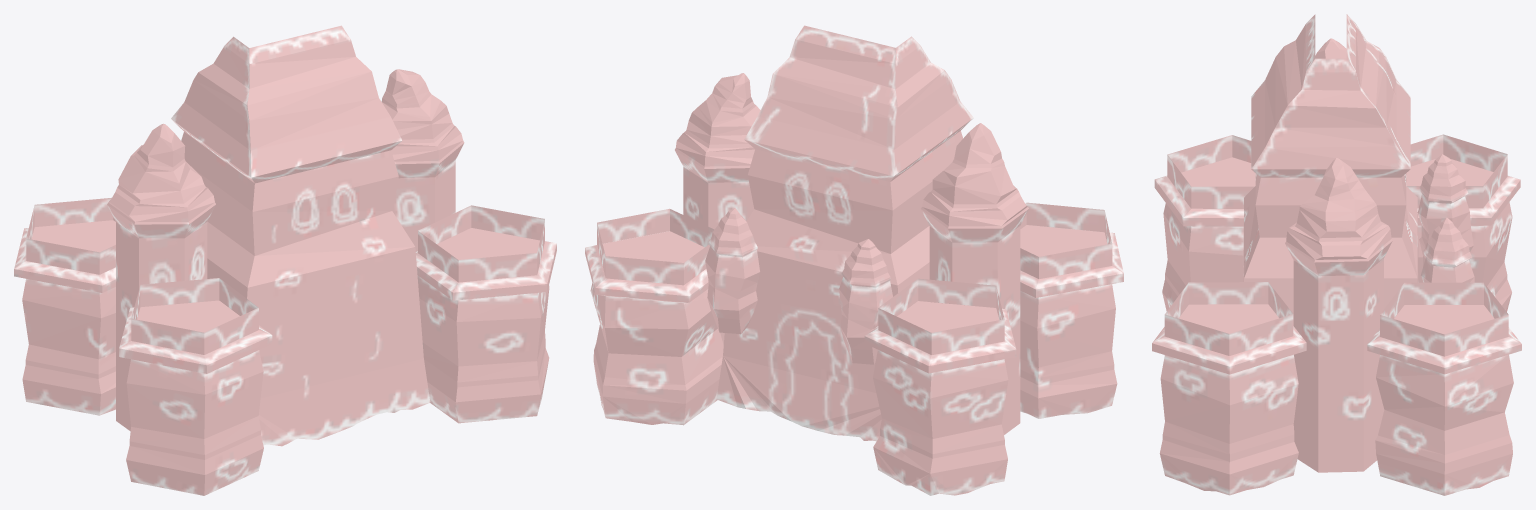
Rendered from PuffyCastle.glb.
The picture shows the model from 3 angles, left to right: view 1: azimuth 30°, elevation 25°; view 2: azimuth 150°, elevation 25°; view 3: azimuth 270°, elevation 25°; orthographic projection.
Visible parts, largest first — view 1: PuffyCastle, PuffyCastle_Alpha; view 2: PuffyCastle, PuffyCastle_Alpha; view 3: PuffyCastle, PuffyCastle_Alpha.
Boxes of the visible parts, x1,y1,x2,y2 form: PuffyCastle: (14,39,556,495); PuffyCastle_Alpha: (26,25,544,354); PuffyCastle: (585,39,1123,495); PuffyCastle_Alpha: (597,25,1112,354); PuffyCastle: (1152,23,1521,495); PuffyCastle_Alpha: (1164,14,1508,356).
Bounding box in the file's own units: 0.4206 × 0.342 × 0.3124.
Materials: 1 (1 with a texture image).
